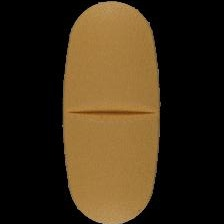62756-185: (0, 0, 224, 224)
